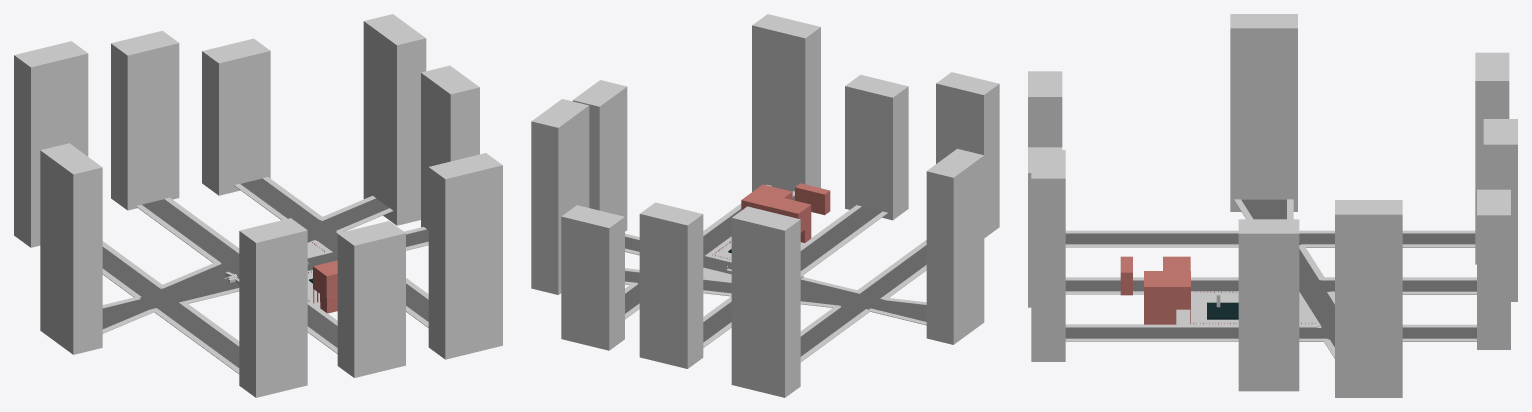
Rendered from World3d.gltf.
3 renders of one model, left to right at view 1: azimuth 30°, elevation 25°; view 2: azimuth 150°, elevation 25°; view 3: azimuth 270°, elevation 25°, orthographic. The views are drawn at different scales.
Visible parts, largest first — view 1: Building1, Building2, Building3, Building5, Building7, Building4, Building0, Building6, Building8, road13, road8, road5 (+11 smaller); view 2: Building4, Building1, Building2, Building5, Building7, Building6, Building0, Building3, Building8, building3, road21, road11 (+9 smaller); view 3: Building7, Building2, Building8, Building1, Building6, Building5, Building4, Building3, building2, road9, road8, road22 (+17 smaller).
Boxes of the visible parts, x1,y1,x2,y2 form: Building1: [428, 153, 502, 359]; Building2: [40, 143, 102, 354]; Building3: [239, 218, 307, 397]; Building5: [111, 30, 179, 210]; Building7: [363, 14, 426, 225]; Building4: [14, 41, 88, 247]; Building0: [337, 221, 405, 377]; Building6: [202, 38, 270, 195]; Building8: [421, 65, 479, 230]; road13: [142, 199, 205, 234]; road8: [171, 313, 234, 348]; road5: [130, 282, 192, 318]; Building4: [731, 206, 800, 397]; Building1: [752, 14, 820, 200]; Building2: [926, 148, 984, 344]; Building5: [639, 202, 703, 368]; Building7: [531, 99, 589, 294]; Building6: [561, 205, 624, 350]; Building0: [845, 74, 908, 220]; Building3: [936, 72, 999, 237]; Building8: [572, 80, 627, 231]; building3: [795, 183, 830, 215]; road21: [824, 206, 881, 239]; road11: [800, 312, 853, 345]; Building7: [1335, 200, 1402, 397]; Building2: [1230, 14, 1297, 211]; Building8: [1238, 219, 1299, 391]; Building1: [1031, 150, 1065, 361]; Building6: [1477, 189, 1510, 349]; Building5: [1483, 119, 1517, 301]; Building4: [1475, 52, 1509, 264]; Building3: [1028, 71, 1062, 147]; building2: [1144, 271, 1176, 309]; road9: [1146, 327, 1231, 338]; road8: [1146, 233, 1231, 244]; road22: [1065, 233, 1147, 244].
Size of the model in its own units: 357 by 150 by 363.
